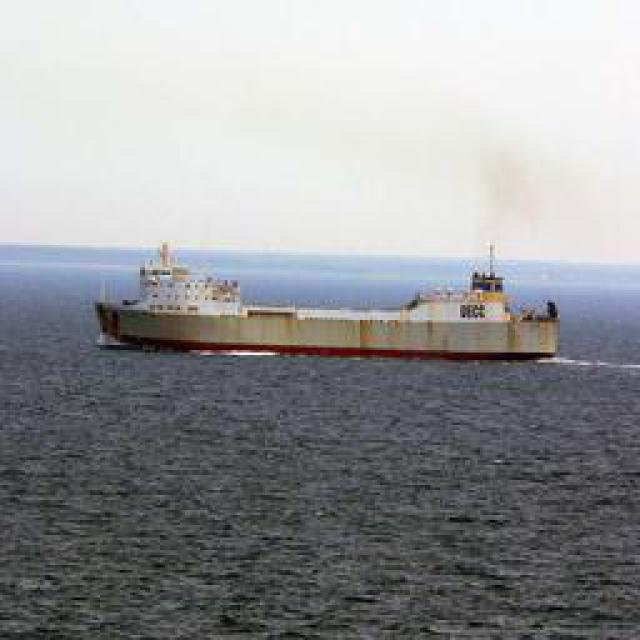Ship: (115, 258, 550, 363)
